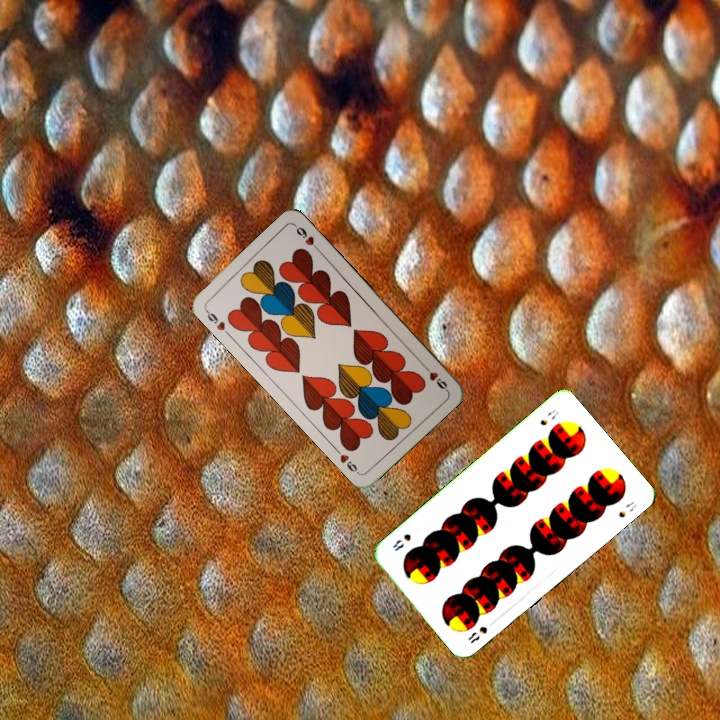H9: (201, 305, 233, 338), (419, 360, 450, 393)
S8: (464, 622, 490, 646), (536, 406, 561, 428)
